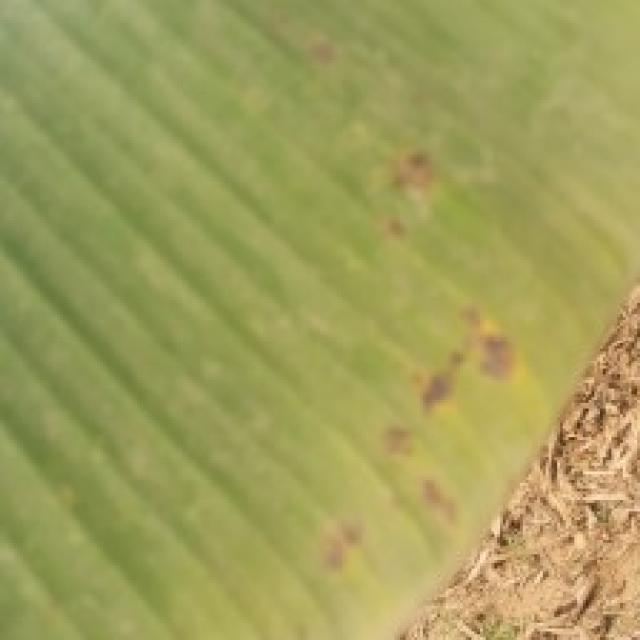Downey_mildrew: (244, 296, 554, 606), (350, 138, 502, 294), (295, 26, 364, 87)
